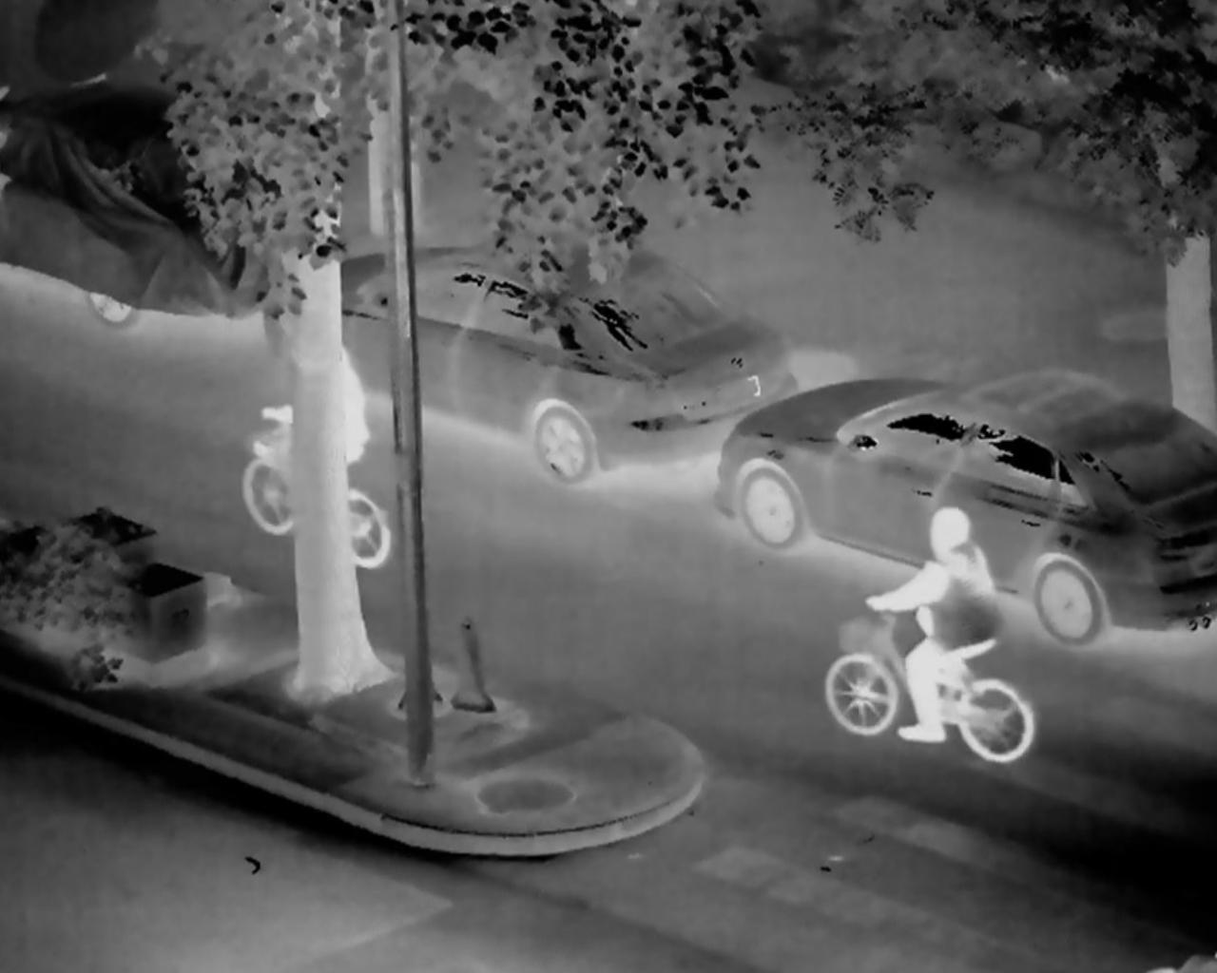person: (858, 500, 1006, 761), (261, 334, 374, 549)
